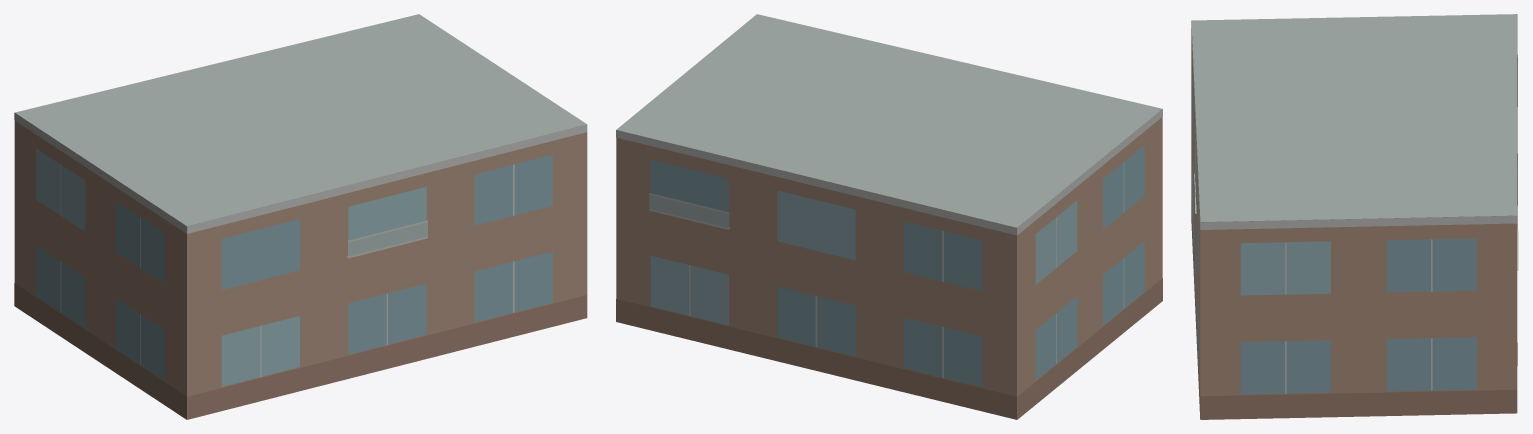
File: survey-upis-32572834.glb
The picture shows the model from 3 angles, left to right: view 1: azimuth 30°, elevation 25°; view 2: azimuth 150°, elevation 25°; view 3: azimuth 270°, elevation 25°; orthographic projection. The views are drawn at different scales.
Visible parts, largest first — view 1: survey-upis-32572834.tmp; view 2: survey-upis-32572834.tmp; view 3: survey-upis-32572834.tmp.
Boxes of the visible parts, x1=… form: survey-upis-32572834.tmp: x1=14, y1=14, x2=587, y2=419; survey-upis-32572834.tmp: x1=616, y1=14, x2=1162, y2=419; survey-upis-32572834.tmp: x1=1191, y1=14, x2=1518, y2=419.
Bounding box in the file's own units: 13.78 × 6.1 × 9.16.
